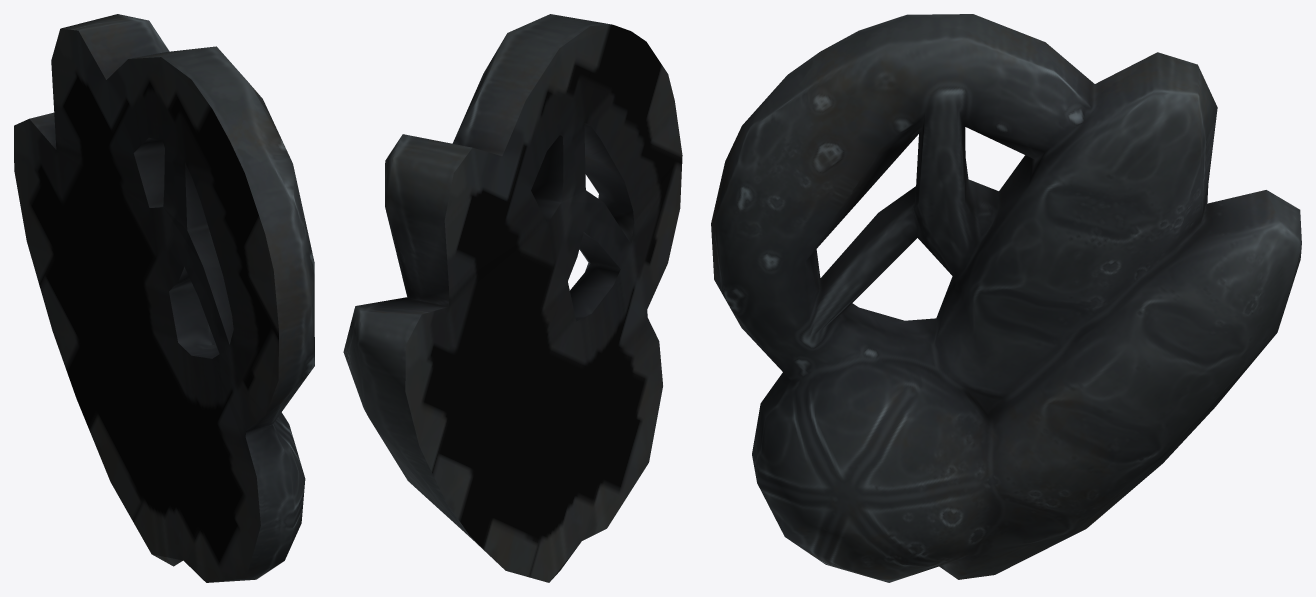
The model's file is S_MVIllage_Sign_ID_Bakery_A.fbx.
3 views of the same model, side by side, from view 1: azimuth 30°, elevation 25°; view 2: azimuth 150°, elevation 25°; view 3: azimuth 270°, elevation 25° (orthographic). The views are drawn at different scales.
Parts seen in each view (by area): view 1: S_MVillage_Sign_ID_Bakery_LOD0; view 2: S_MVillage_Sign_ID_Bakery_LOD0; view 3: S_MVillage_Sign_ID_Bakery_LOD0.
Part boxes in pixels (x1,y1,x2,y2): S_MVillage_Sign_ID_Bakery_LOD0: (14, 14, 314, 582); S_MVillage_Sign_ID_Bakery_LOD0: (343, 14, 682, 582); S_MVillage_Sign_ID_Bakery_LOD0: (711, 14, 1301, 582).
Size of what is drawn, in the model's own units: 14.33 by 74.51 by 70.91.
